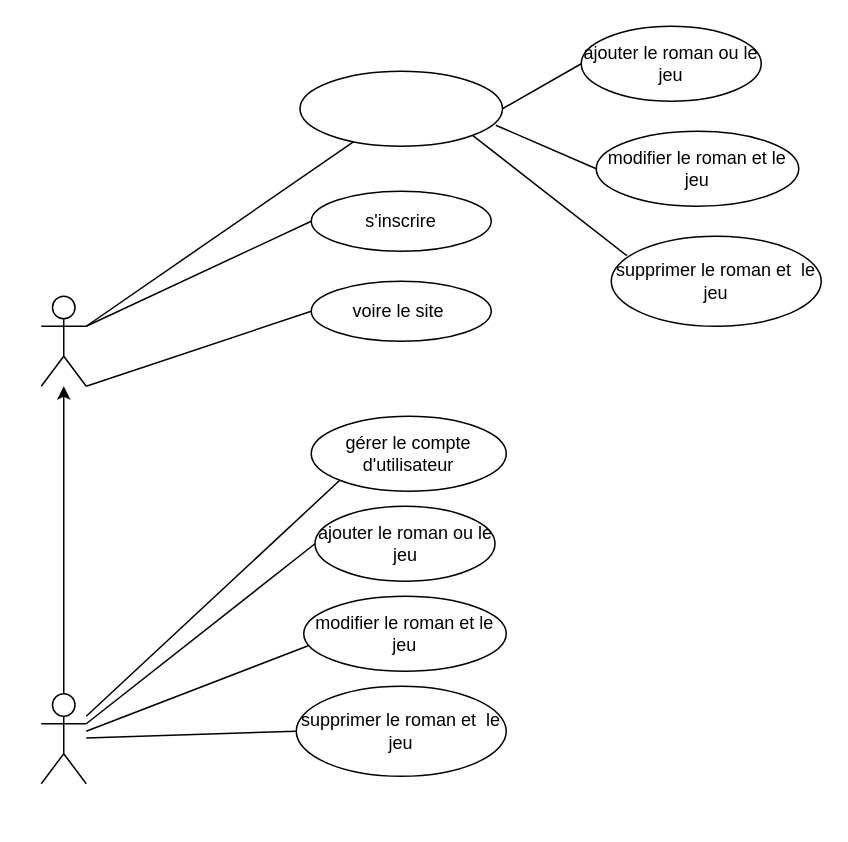
Some shapes in this 848 by 842 pixel diagram are drawn without their labels. The centre of each missing label's shape, as x and y in pixels:
Admin: (x=63, y=738)
se connecter: (x=400, y=108)
utilisateur: (x=63, y=340)
